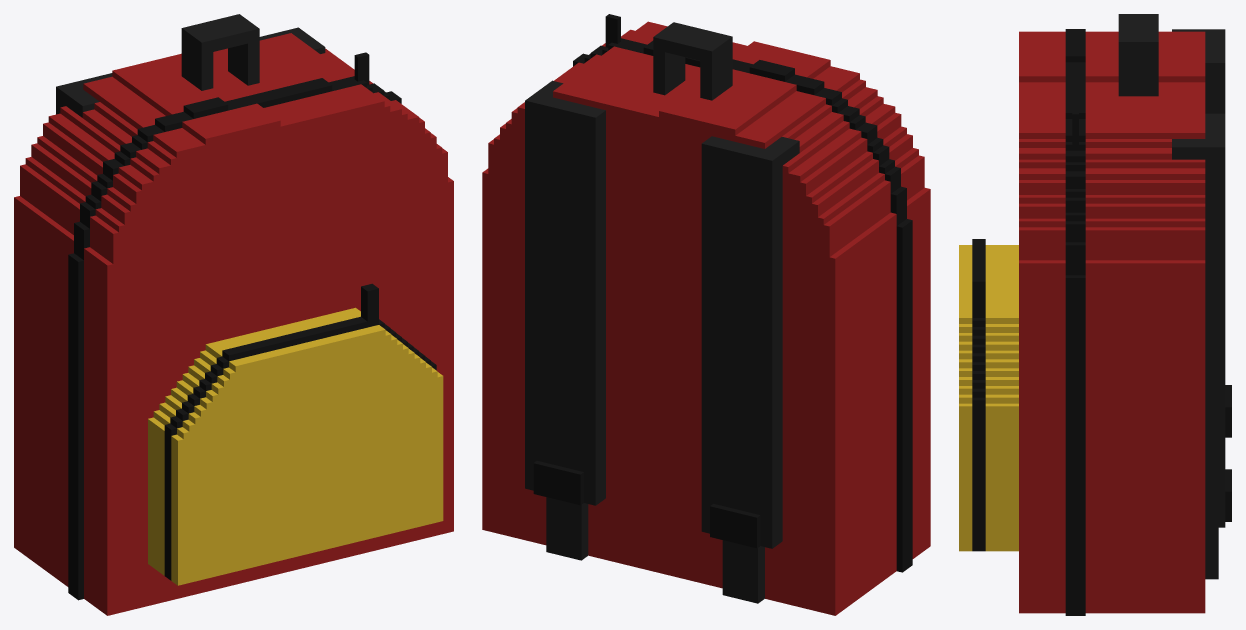
Rendered from backpack_small.glb.
The picture shows the model from 3 angles, left to right: view 1: azimuth 30°, elevation 25°; view 2: azimuth 150°, elevation 25°; view 3: azimuth 270°, elevation 25°; orthographic projection. The views are drawn at different scales.
Visible parts, largest first — view 1: backpack_small:compound; view 2: backpack_small:compound; view 3: backpack_small:compound.
Boxes of the visible parts, <box> form: backpack_small:compound: <box>14,14,453,615</box>; backpack_small:compound: <box>482,14,930,615</box>; backpack_small:compound: <box>959,14,1231,615</box>.
Bounding box in the file's own units: 0.248 × 0.332 × 0.164.
